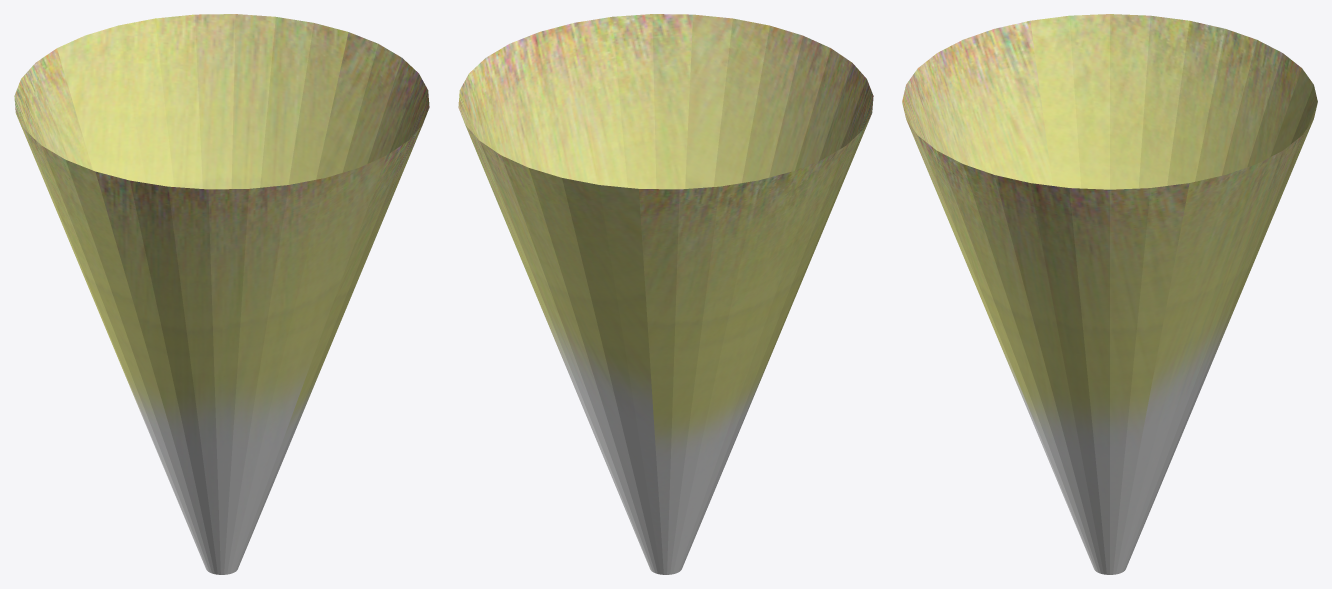
The model's file is lightRays.fbx.
3 views of the same model, side by side, from view 1: azimuth 30°, elevation 25°; view 2: azimuth 150°, elevation 25°; view 3: azimuth 270°, elevation 25° (orthographic).
Visible parts, largest first — view 1: Cylinder; view 2: Cylinder; view 3: Cylinder.
Boxes of the visible parts, left/top/right/bottom form: Cylinder: left=14, top=14, right=429, bottom=574; Cylinder: left=458, top=14, right=873, bottom=574; Cylinder: left=902, top=14, right=1317, bottom=574.
Size of the model in its own units: 385 by 476 by 385.
